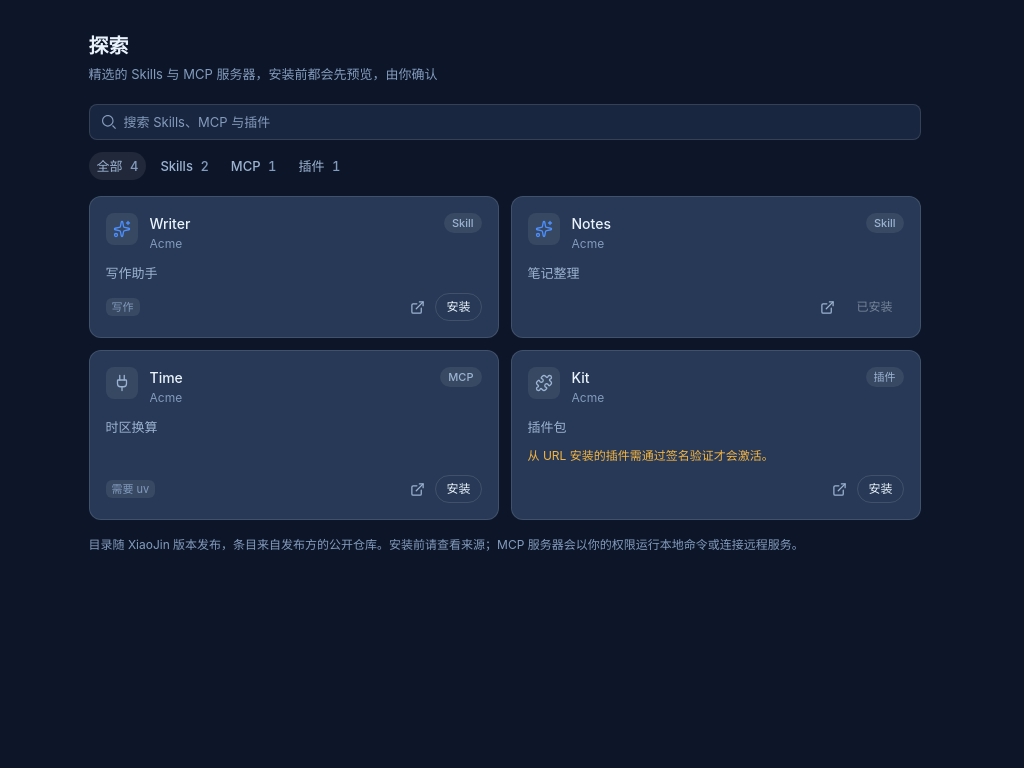
Test case: ExplorePage › opens the Skill URL import prefilled, without importing yet
Click the button "安装" below "Writer".
click(458, 307)  # box left=436, top=293, right=482, bottom=321
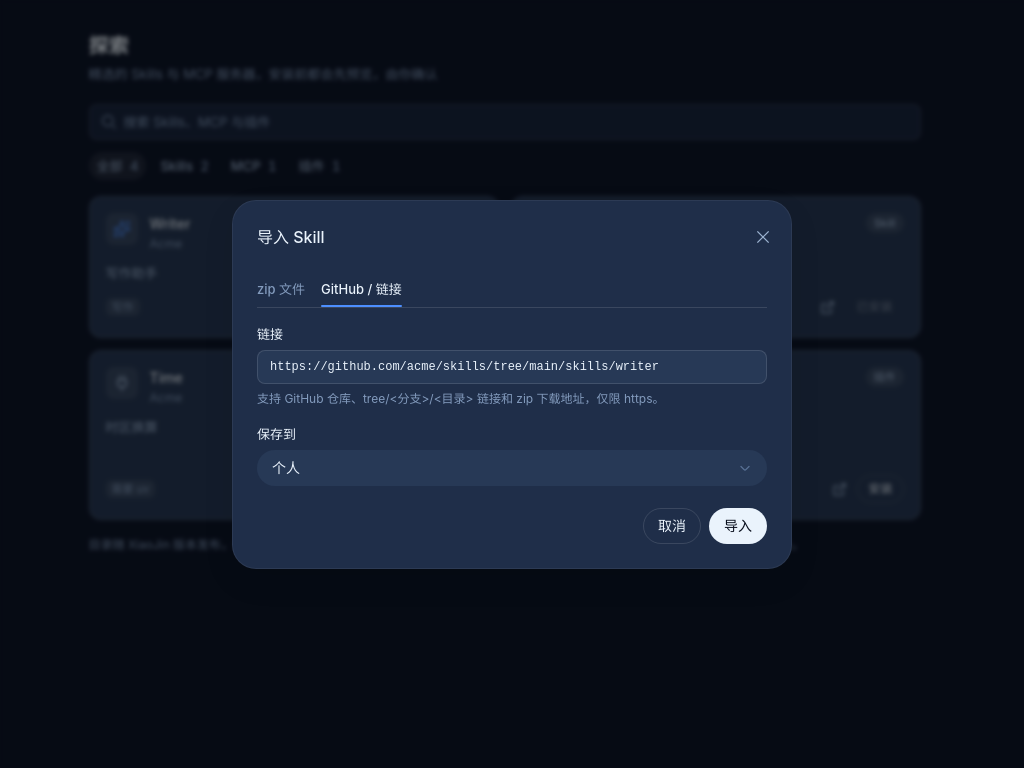
expect the field labelled "链接" holds "https://github.com/acme/skills/tree/main/skills/writer": met, box left=270, top=350, right=754, bottom=382
expect the tab "GitHub / 链接" is shown: met, box left=321, top=282, right=402, bottom=306
